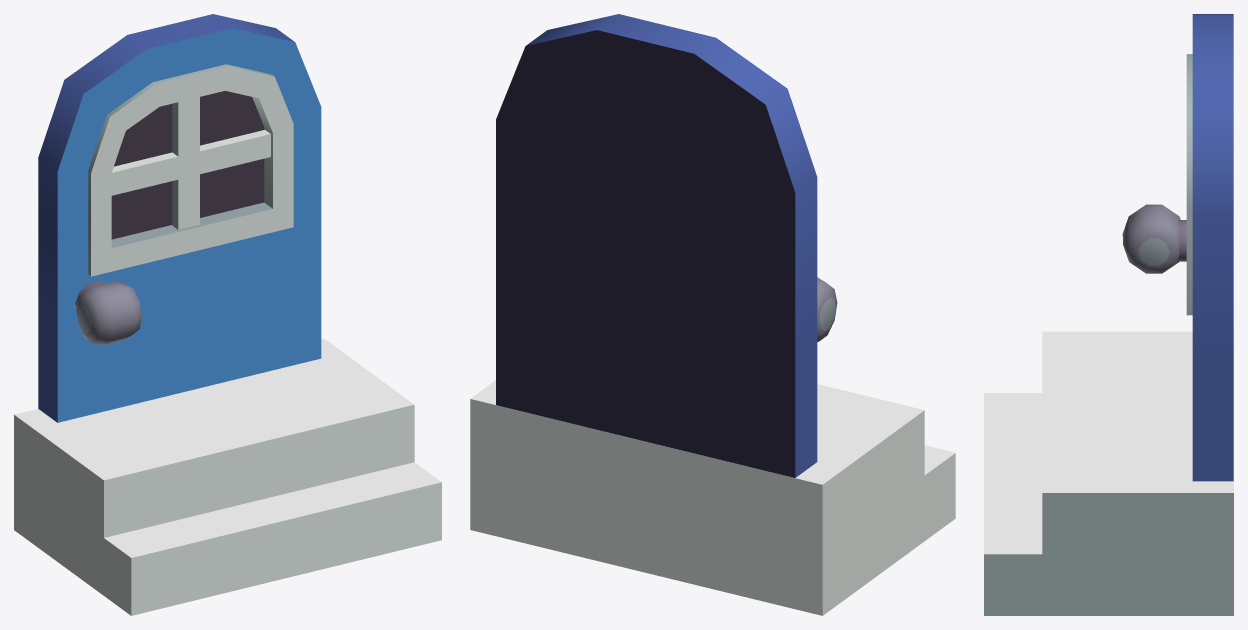
The model's file is Door01_Blue_White.glb.
The picture shows the model from 3 angles, left to right: view 1: azimuth 30°, elevation 25°; view 2: azimuth 150°, elevation 25°; view 3: azimuth 270°, elevation 25°; orthographic projection. The views are drawn at different scales.
Parts seen in each view (by area): view 1: Door01_Blue_White; view 2: Door01_Blue_White; view 3: Door01_Blue_White.
Part boxes in pixels (left/top/right/bottom): Door01_Blue_White: left=14, top=14, right=441, bottom=615; Door01_Blue_White: left=470, top=14, right=955, bottom=615; Door01_Blue_White: left=984, top=14, right=1233, bottom=615.
Bounding box in the file's own units: 0.9795 × 1.41 × 0.6407.
1 material, 1 textured.
